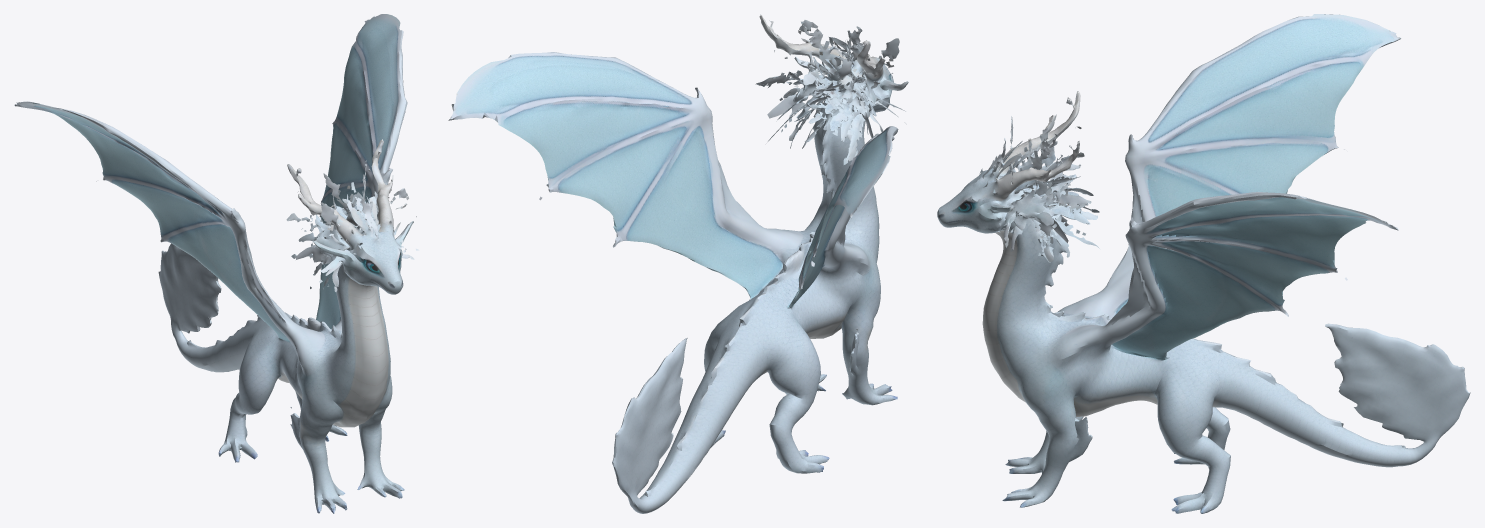
Rendered from snow_beyonder.glb.
3 views of the same model, side by side, from view 1: azimuth 30°, elevation 25°; view 2: azimuth 150°, elevation 25°; view 3: azimuth 270°, elevation 25° (orthographic). The views are drawn at different scales.
Size of the model in its own units: 1.64 by 1.49 by 1.9.
Materials: 1 (1 with a texture image).
